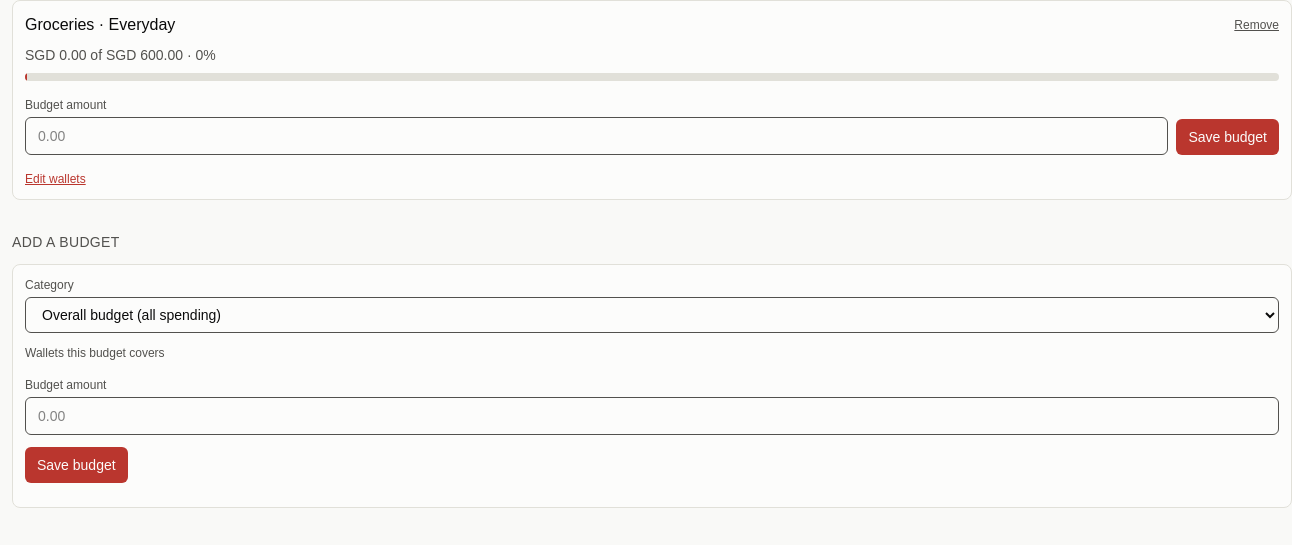
Test: BudgetList — save error accessibility › associates a save error with the amount input via a describedby target that carries no competing aria-label
The width and height of the screenshot is (1292, 545).
Type "abc" into the field labelled "Budget amount" below "SGD 0.00". click: (597, 136)
box: [25,117,1168,155]
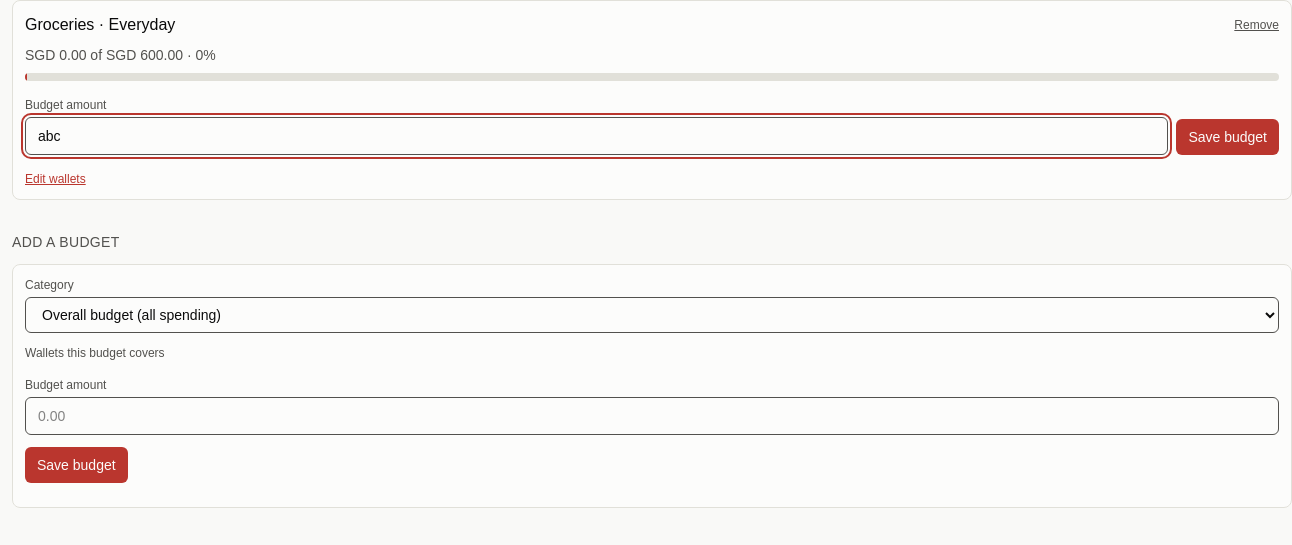
Click the 1st button "Save budget". click: (1228, 137)
box: [1176,119,1279,155]
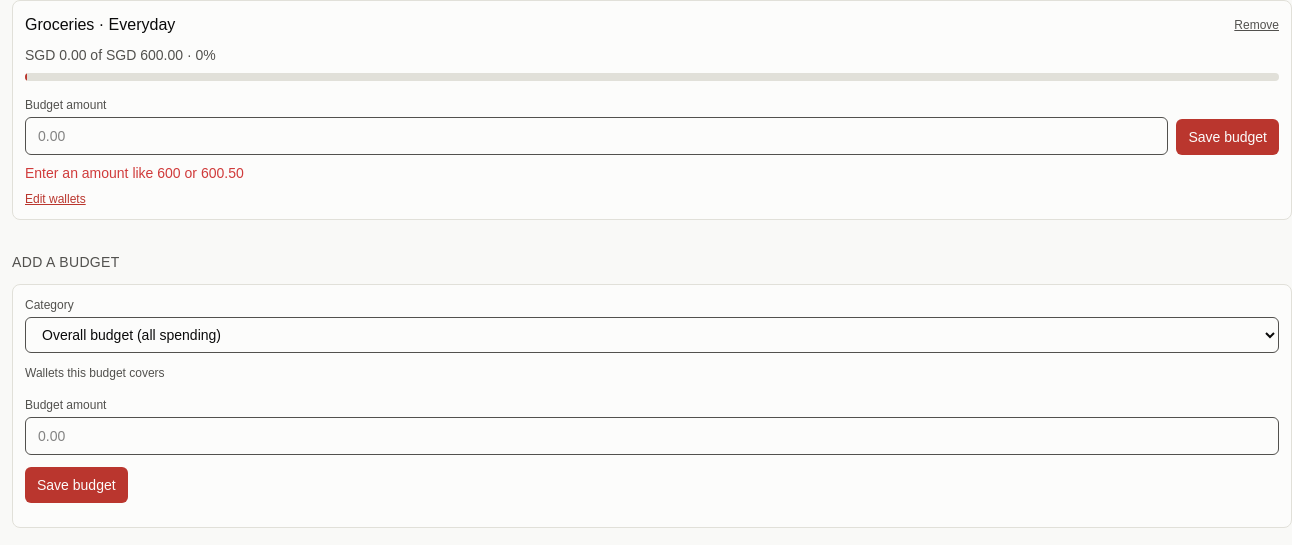
Expected: the text "Enter an amount like 600 or 600.50" is shown, [25,165,244,181]
